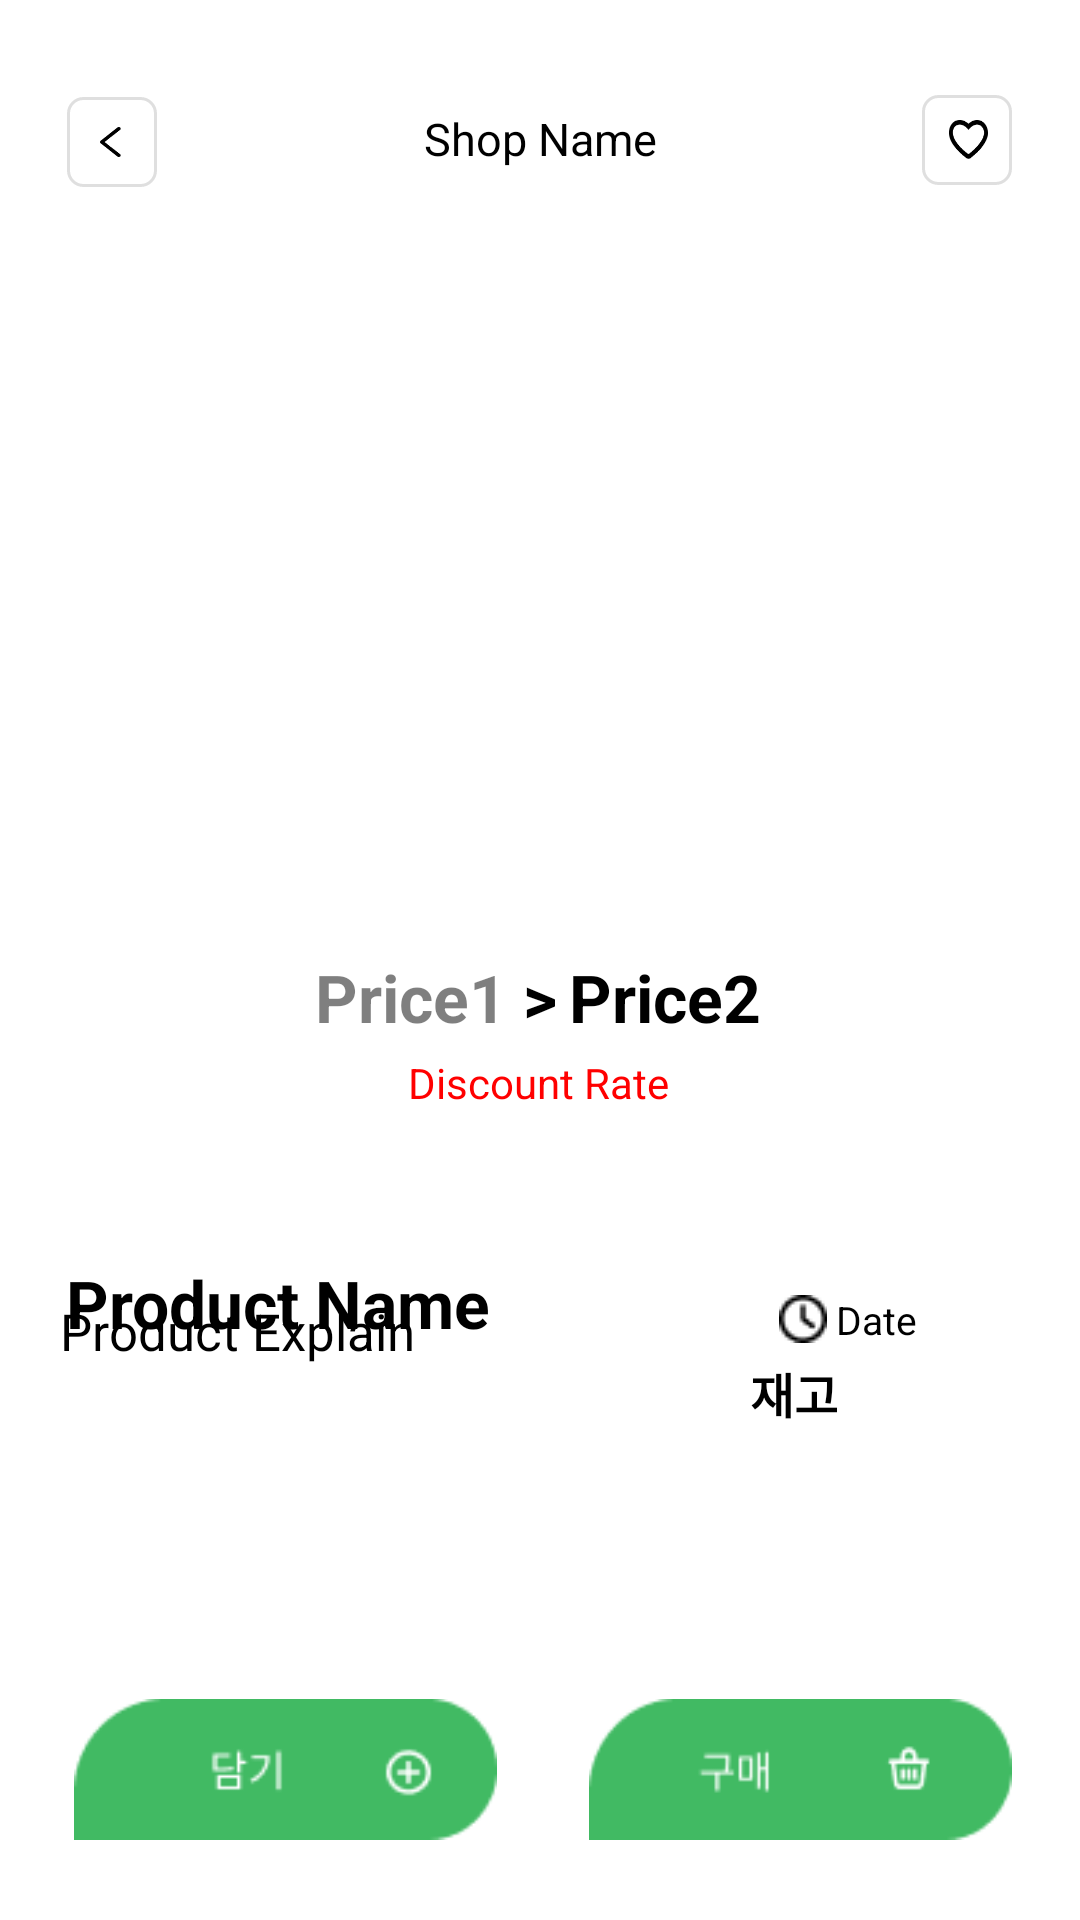

Icons on this 1080x1920 Android screen, each with the point to tap as (x=x, y=y):
time: (x=803, y=1319)
